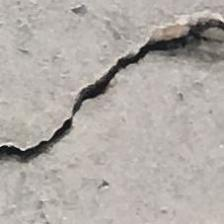Crack: (0, 7, 224, 169)
